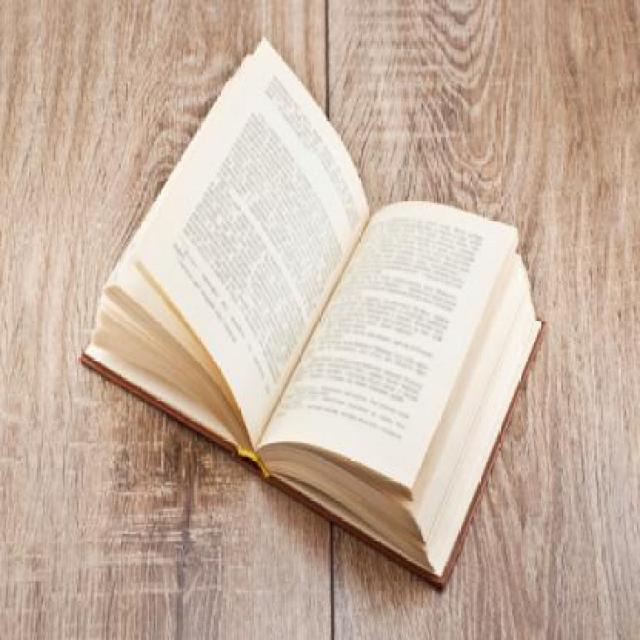book: (73, 21, 576, 605)
